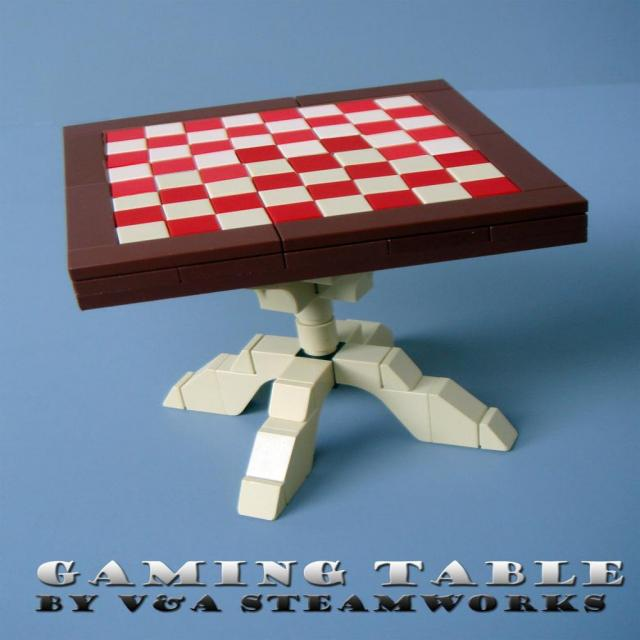table: (62, 81, 586, 530)
